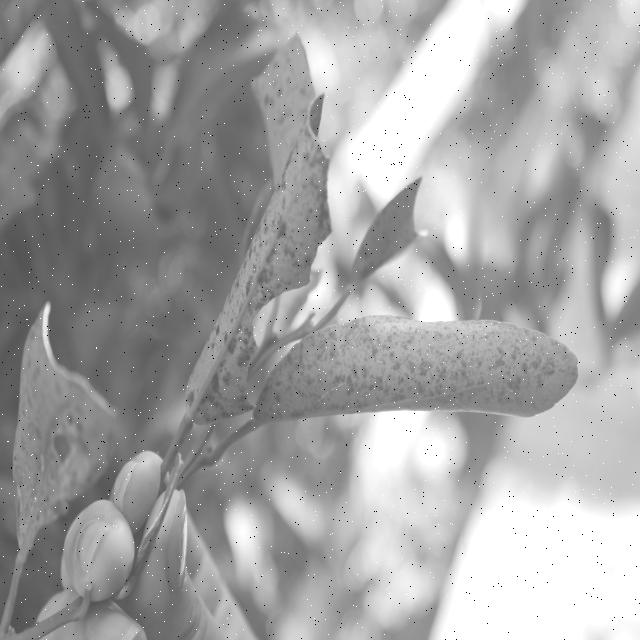melanose: (168, 101, 344, 451), (254, 311, 581, 469), (0, 319, 131, 540), (262, 52, 319, 168)
